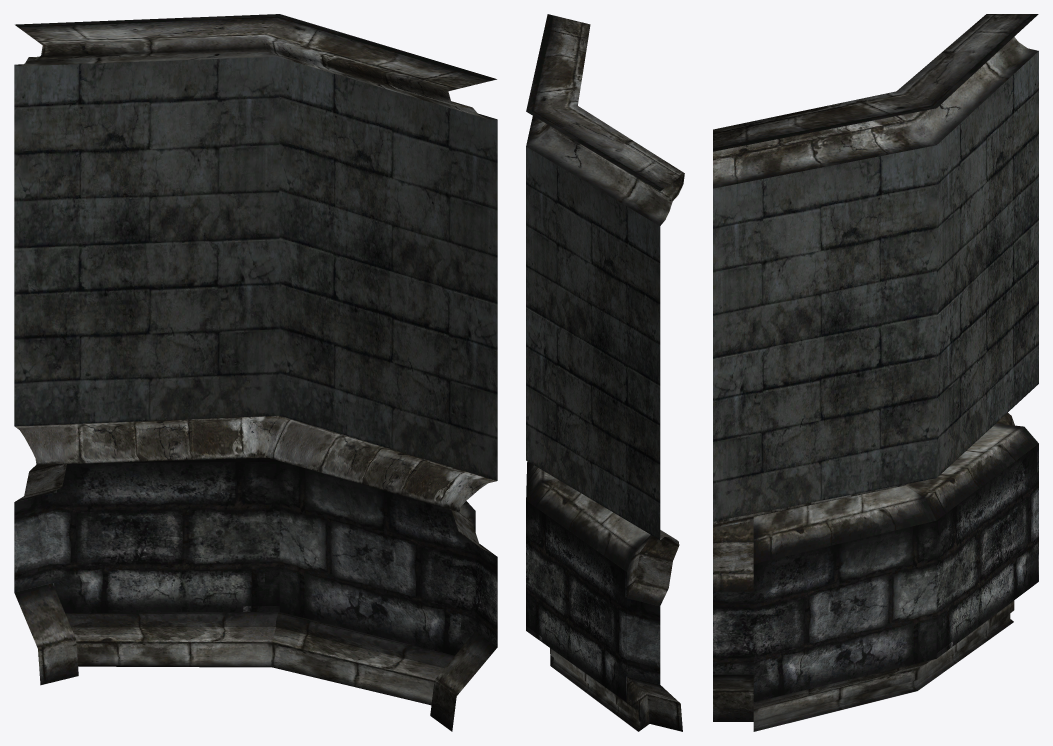
Rendered from corner_concave_round_short_alt.dae.
3 renders of one model, left to right at view 1: azimuth 30°, elevation 25°; view 2: azimuth 150°, elevation 25°; view 3: azimuth 270°, elevation 25°, orthographic. The views are drawn at different scales.
Parts seen in each view (by area): view 1: polySurface113; view 2: polySurface113; view 3: polySurface113.
Part boxes in pixels (x1,y1,x2,y2): polySurface113: (14,14,497,731); polySurface113: (526,14,684,731); polySurface113: (713,14,1038,731).
Size of what is drawn, in the model's own units: 2 by 4 by 2.
